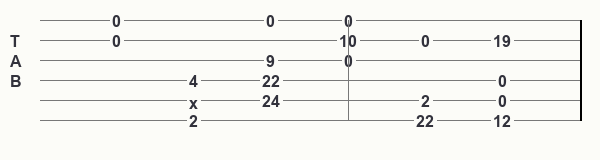0: (112, 32, 125, 48), (112, 12, 125, 28), (266, 12, 279, 28), (344, 52, 357, 68), (344, 12, 357, 28), (421, 32, 434, 48), (498, 72, 511, 88), (498, 92, 511, 108)
10: (339, 32, 361, 48)
12: (493, 112, 515, 128)
19: (493, 32, 515, 48)
2: (189, 112, 202, 128), (421, 92, 434, 108)
22: (262, 72, 284, 88), (416, 112, 438, 128)
24: (262, 92, 284, 108)
4: (189, 72, 202, 88)
9: (266, 52, 279, 68)
x: (189, 94, 202, 107)
